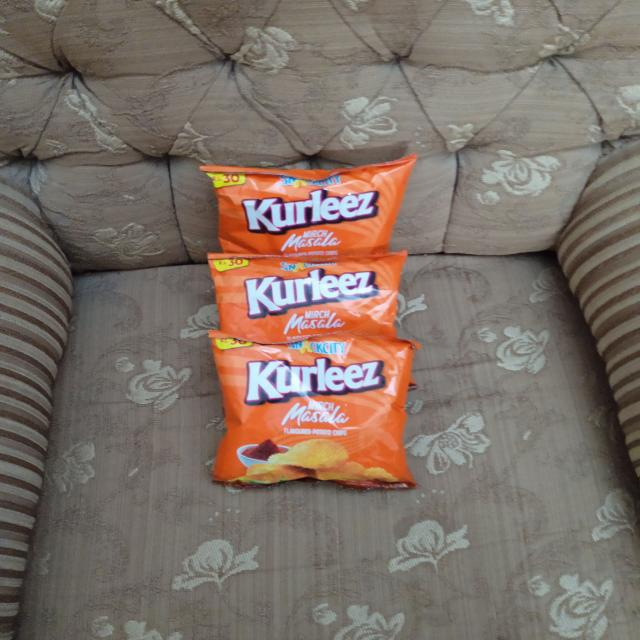Plastic: (218, 337, 410, 488), (211, 166, 400, 252), (217, 254, 400, 337)
